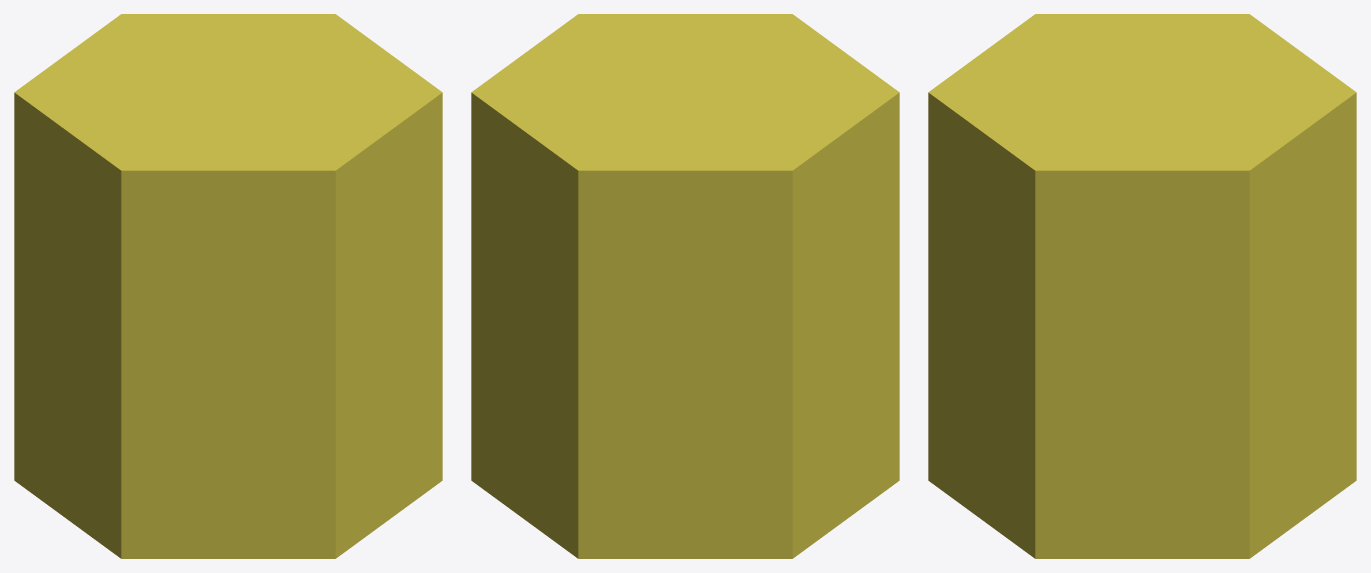
File: segienam.glb
3 views of the same model, side by side, from view 1: azimuth 30°, elevation 25°; view 2: azimuth 150°, elevation 25°; view 3: azimuth 270°, elevation 25° (orthographic).
Parts seen in each view (by area): view 1: Mesh_Mesh_head_geo.001_lambert2SG.001; view 2: Mesh_Mesh_head_geo.001_lambert2SG.001; view 3: Mesh_Mesh_head_geo.001_lambert2SG.001.
Boxes of the visible parts, <box> form: Mesh_Mesh_head_geo.001_lambert2SG.001: <box>14,14,442,558</box>; Mesh_Mesh_head_geo.001_lambert2SG.001: <box>471,14,899,558</box>; Mesh_Mesh_head_geo.001_lambert2SG.001: <box>928,14,1356,558</box>.
Size of the model in its own units: 17.32 by 20 by 20.
